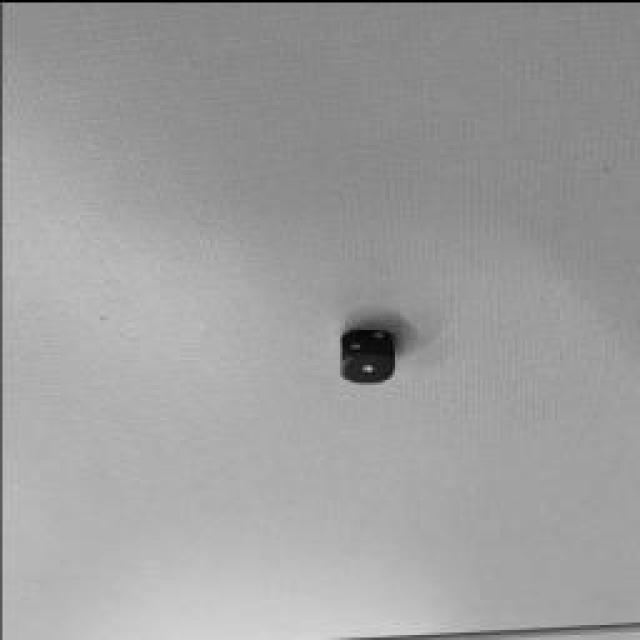dice_1: (338, 351, 394, 381)
